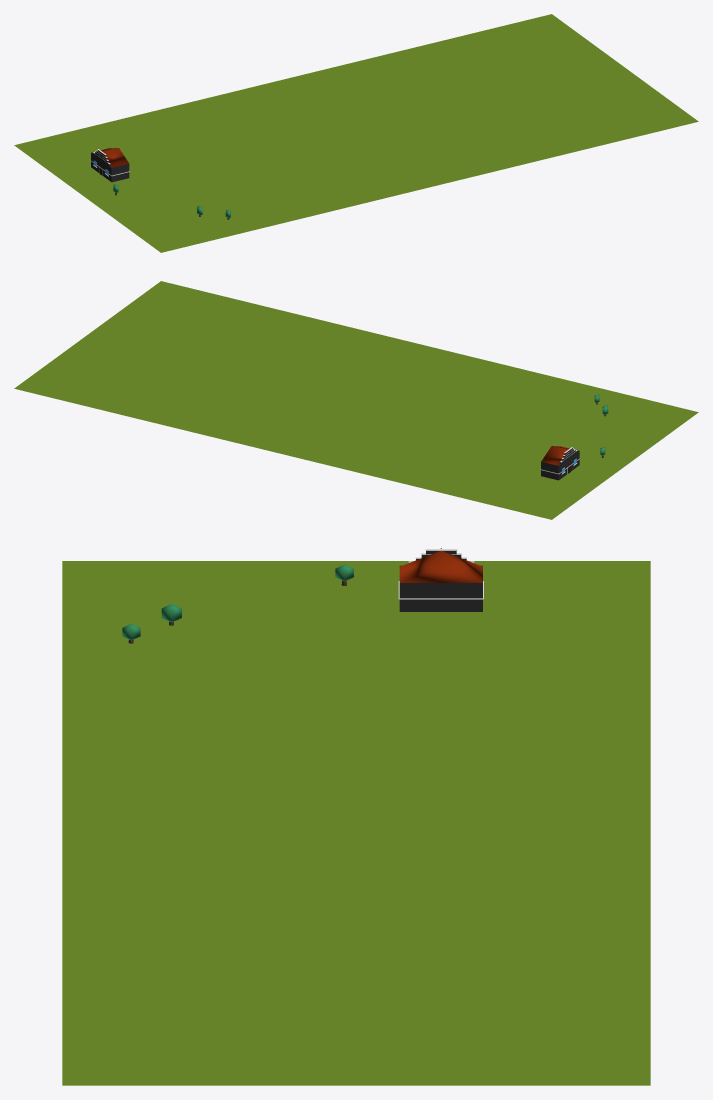
Rendered from city_nature_right1.glb.
3 renders of one model, top to bottom at view 1: azimuth 30°, elevation 25°; view 2: azimuth 150°, elevation 25°; view 3: azimuth 270°, elevation 25°, orthographic. The views are drawn at different scales.
Size of the model in its own units: 57 by 2.34 by 27.
